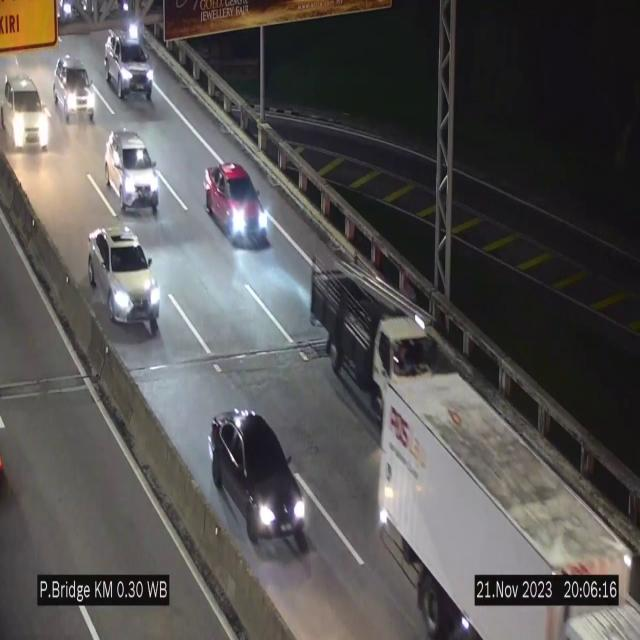Car: (208, 408, 308, 553), (88, 224, 159, 328), (203, 165, 271, 252), (104, 128, 160, 214), (98, 26, 154, 106), (4, 75, 52, 157), (49, 55, 99, 126)
Truck: (371, 375, 640, 640), (310, 255, 436, 420)
